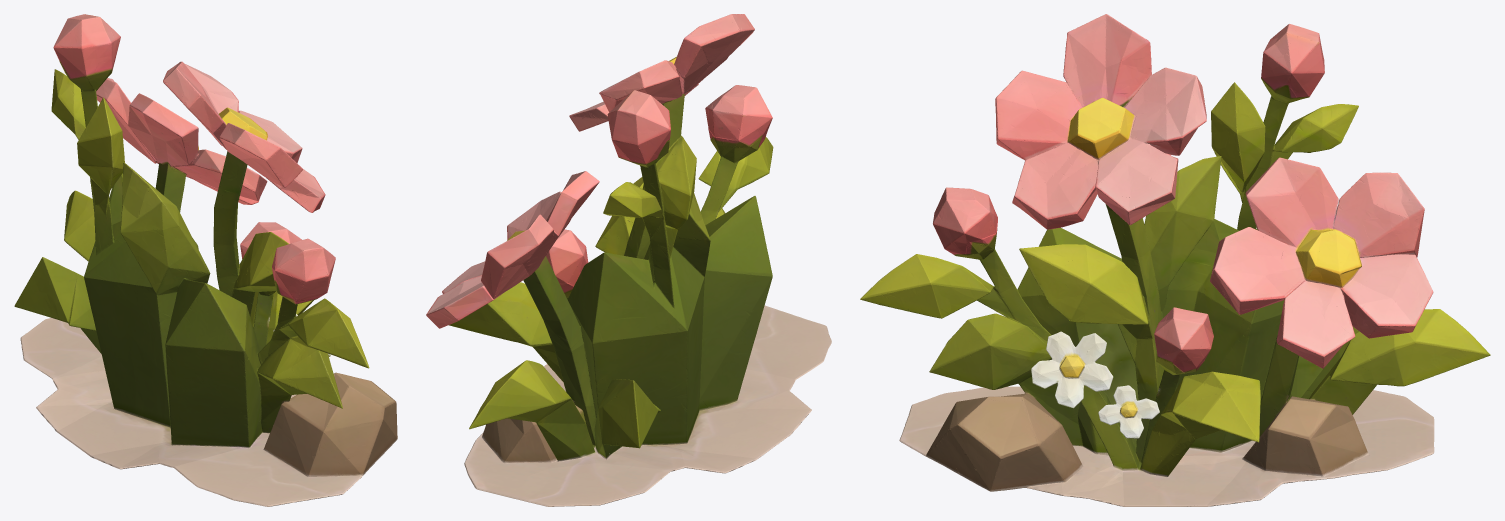
The model's file is KeepSakeFlowerV2-v1.glb.
3 renders of one model, left to right at view 1: azimuth 30°, elevation 25°; view 2: azimuth 150°, elevation 25°; view 3: azimuth 270°, elevation 25°, orthographic. The views are drawn at different scales.
Visible parts, largest first — view 1: tripo_node_92fe941e-f2a3-4c5b-9398-3975cbfef7ef; view 2: tripo_node_92fe941e-f2a3-4c5b-9398-3975cbfef7ef; view 3: tripo_node_92fe941e-f2a3-4c5b-9398-3975cbfef7ef.
Part boxes in pixels (x1,y1,x2,y2): tripo_node_92fe941e-f2a3-4c5b-9398-3975cbfef7ef: (14, 14, 397, 506); tripo_node_92fe941e-f2a3-4c5b-9398-3975cbfef7ef: (426, 14, 831, 506); tripo_node_92fe941e-f2a3-4c5b-9398-3975cbfef7ef: (860, 14, 1490, 506).
Size of the model in its own units: 0.5532 by 0.6924 by 0.9818.
1 material, 1 textured.
